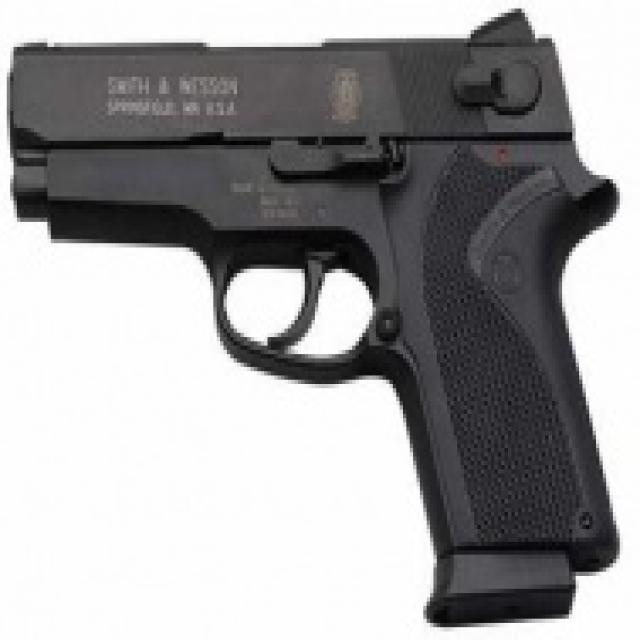pistol: (1, 1, 640, 628)
